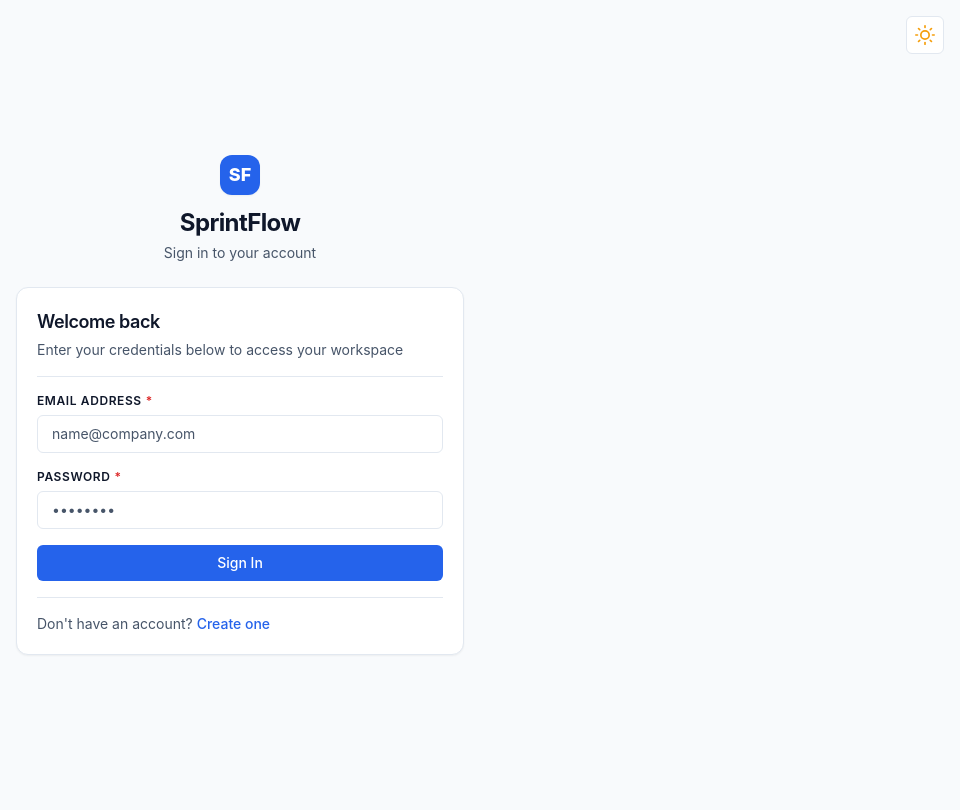
Test case: LoginPage Component › displays server error toast when authentication fails
In the field labelled "Email Address*": [240, 434] box left=37, top=415, right=443, bottom=453, type "wrong@example.com"
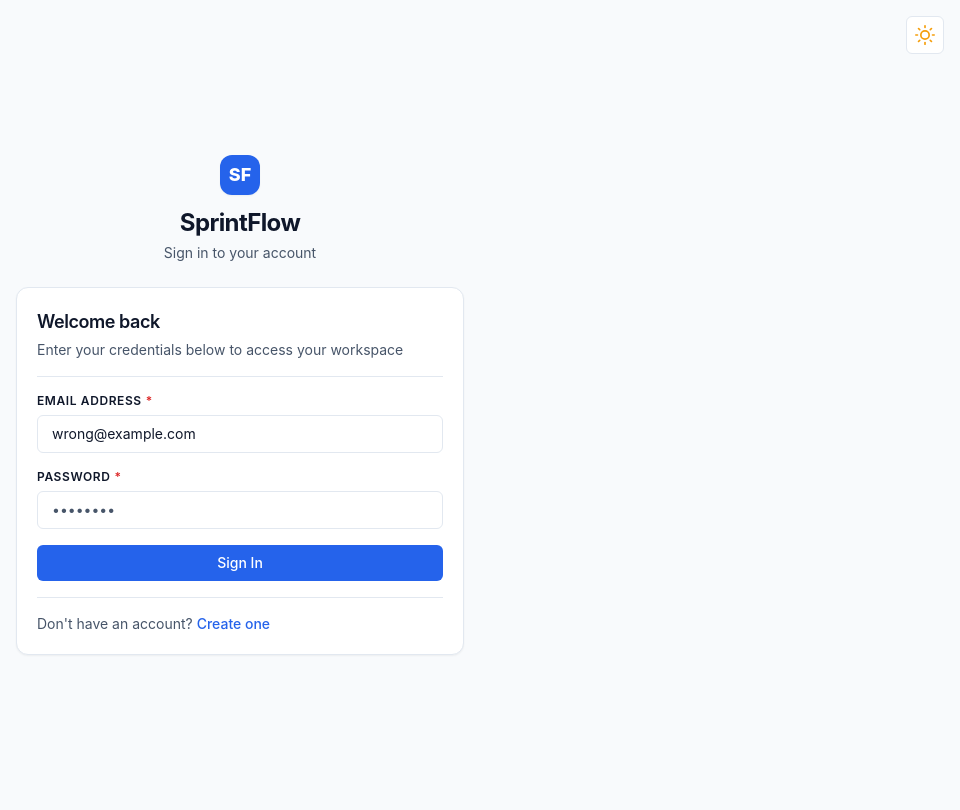
In the password field labelled "Password*": [240, 510] box left=37, top=491, right=443, bottom=529, type "WrongPassword"
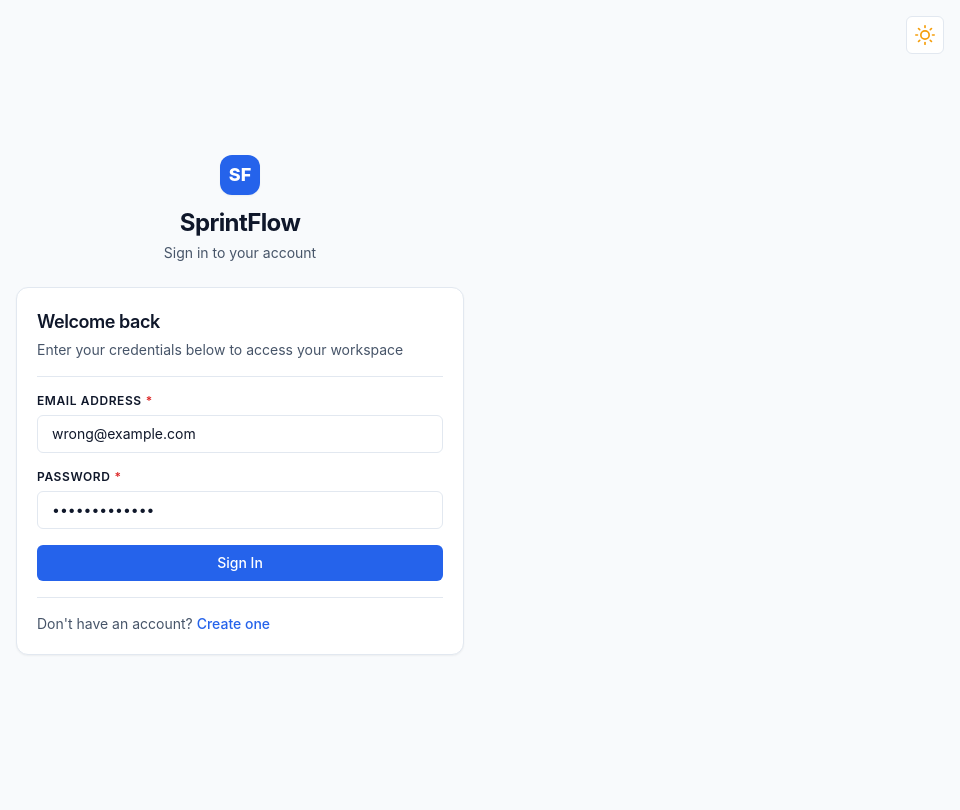
Click the button "Sign In": [240, 563] box left=37, top=545, right=443, bottom=581
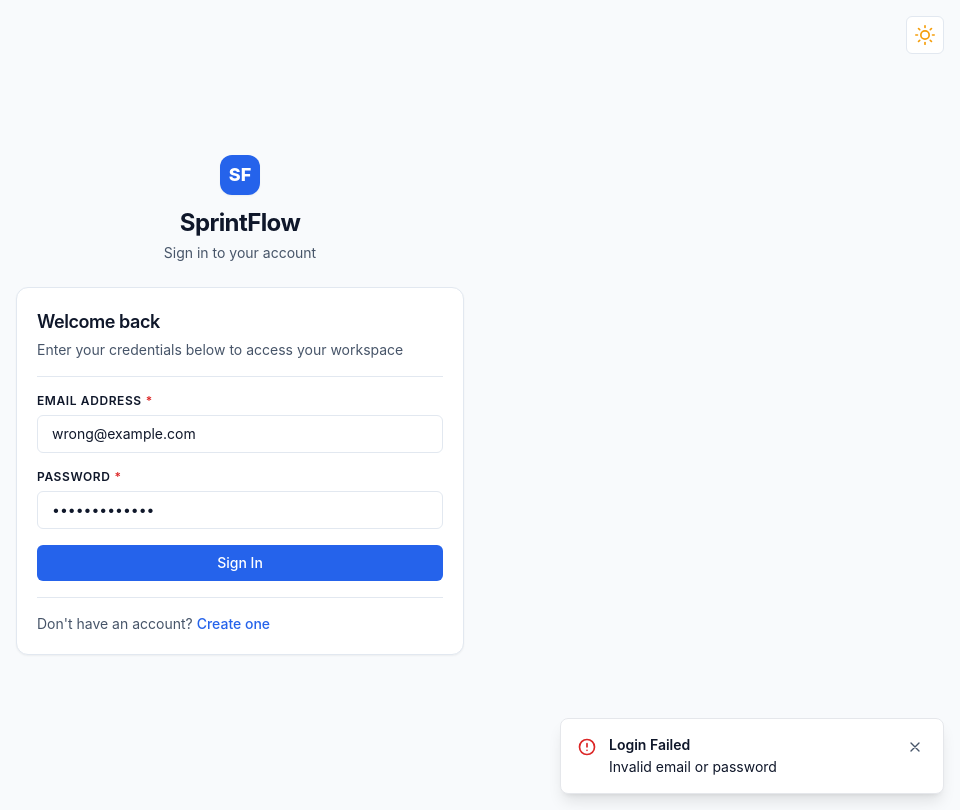
Check: the text "Invalid email or password" is shown, box left=609, top=758, right=777, bottom=775
